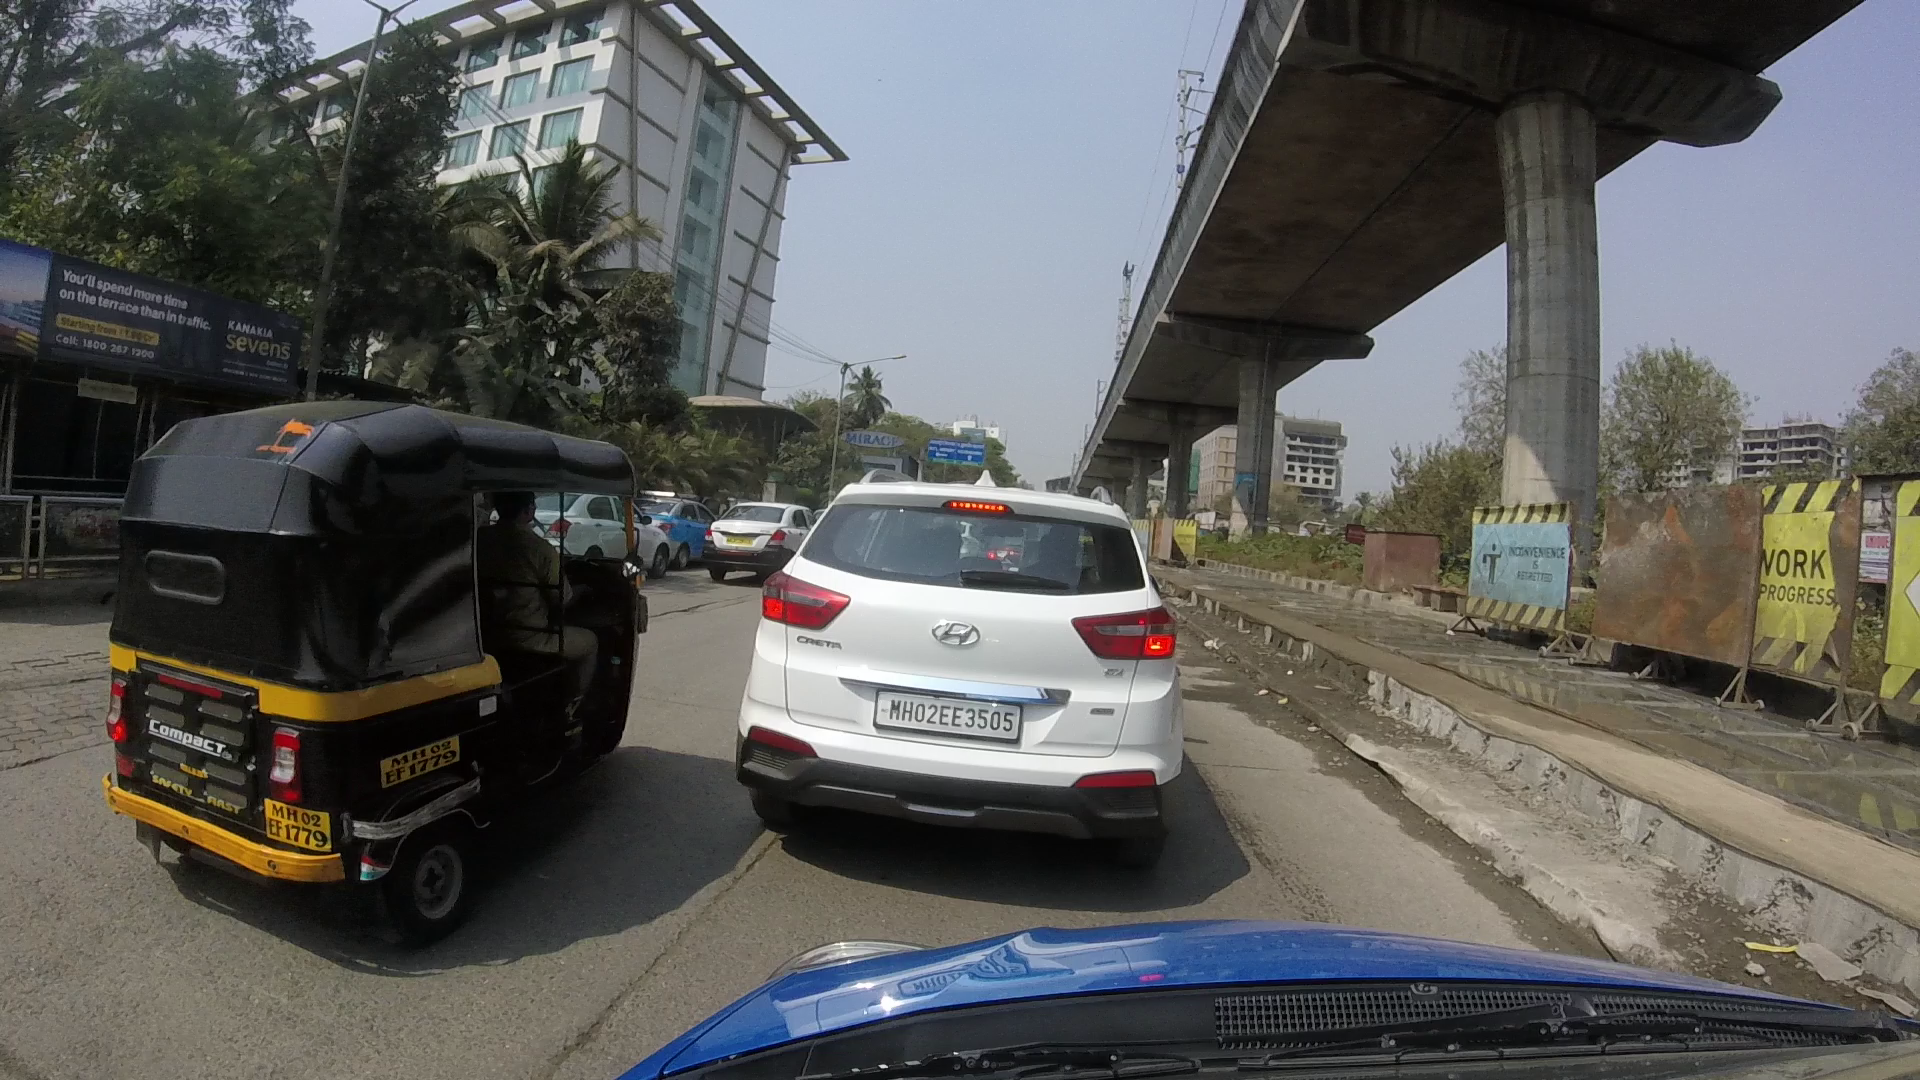car: (749, 483, 1184, 810), (694, 495, 811, 578)
rickshaw: (111, 401, 673, 919)
